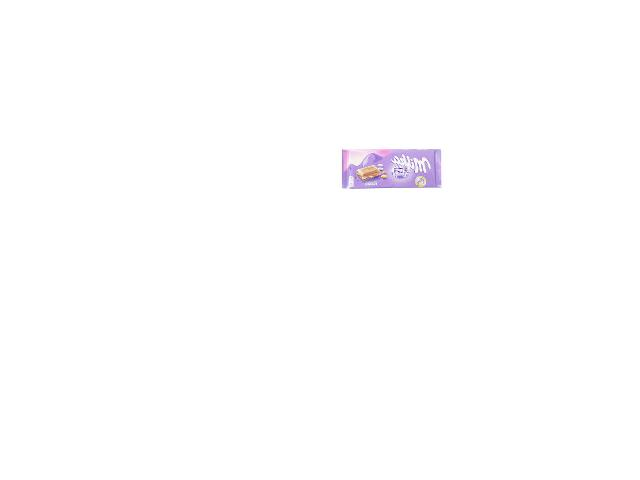chocolate: (342, 148, 441, 190)
